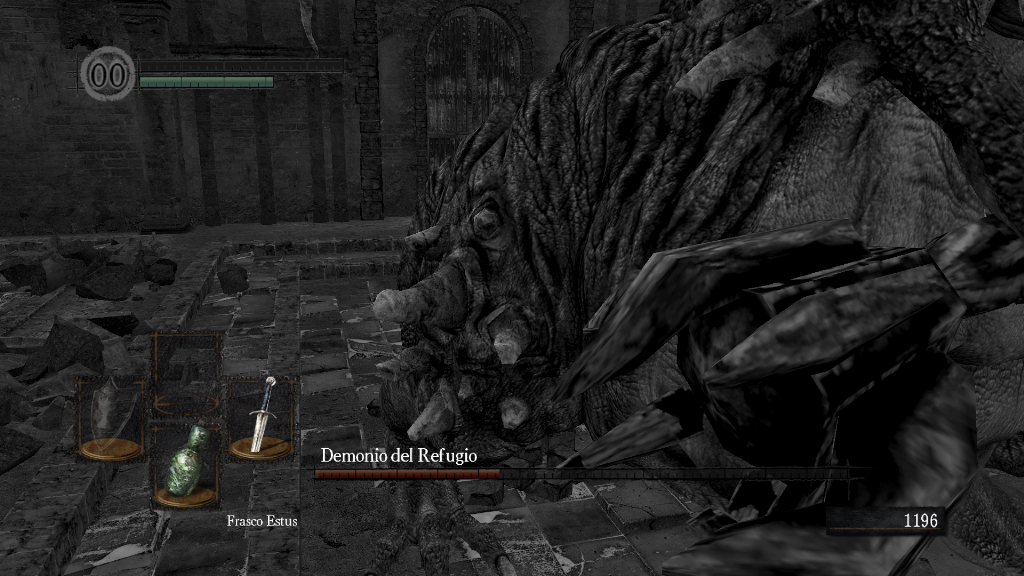asylumDemon: (362, 2, 1023, 576)
bossHP: (314, 469, 847, 479)
health: (138, 58, 343, 71)
humanity: (80, 45, 136, 102)
souls: (825, 506, 945, 536)
stamina: (138, 74, 274, 88)
